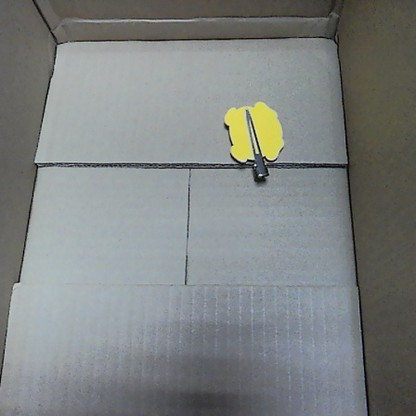dogclip: (220, 94, 285, 183)
